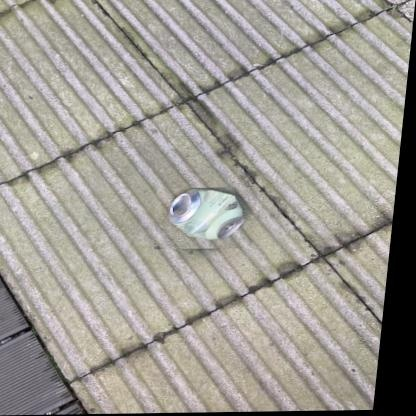trash: (169, 190, 243, 239)
